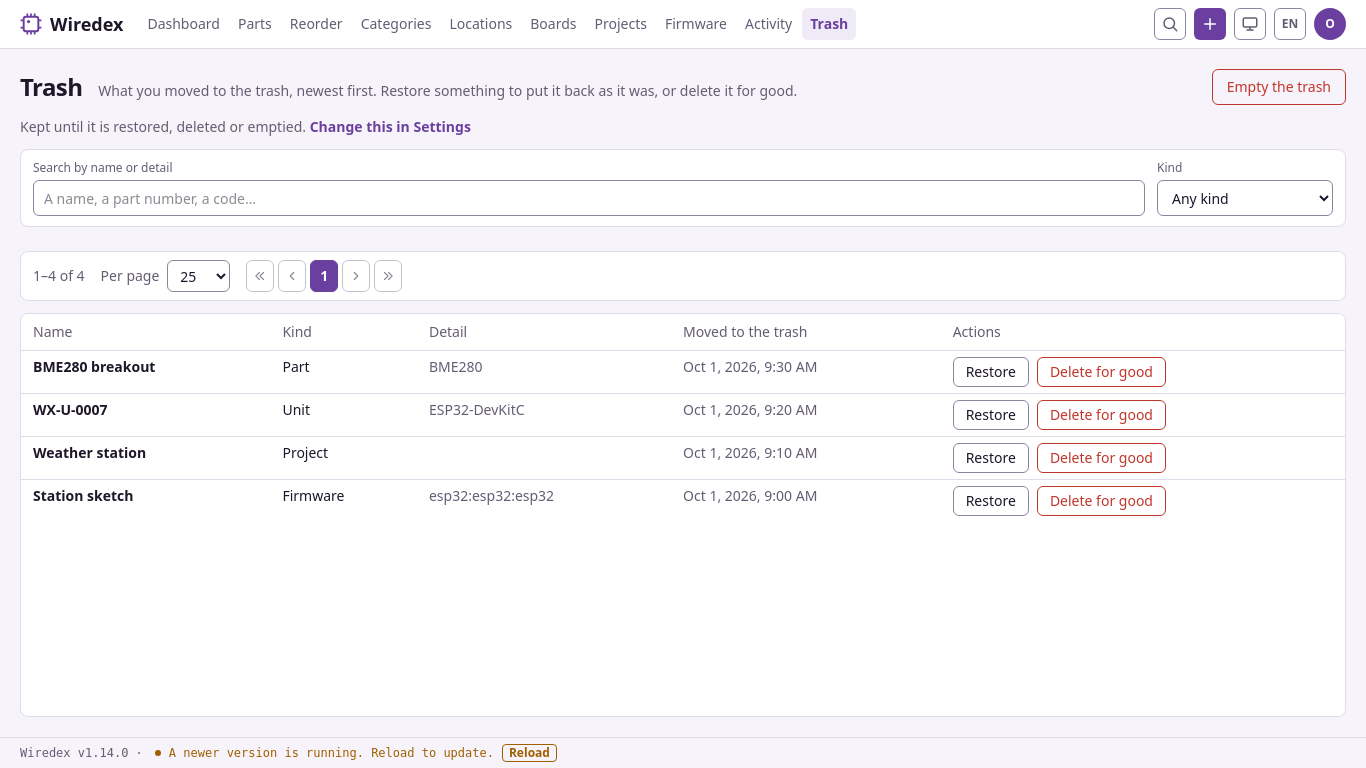
it: TrashPage › narrows by a name or detail once typing pauses, and clears back to everything
Type "esp32" into the search field labelled "Search by name or detail" at {"x": 589, "y": 198}, box [33,180,1145,216]
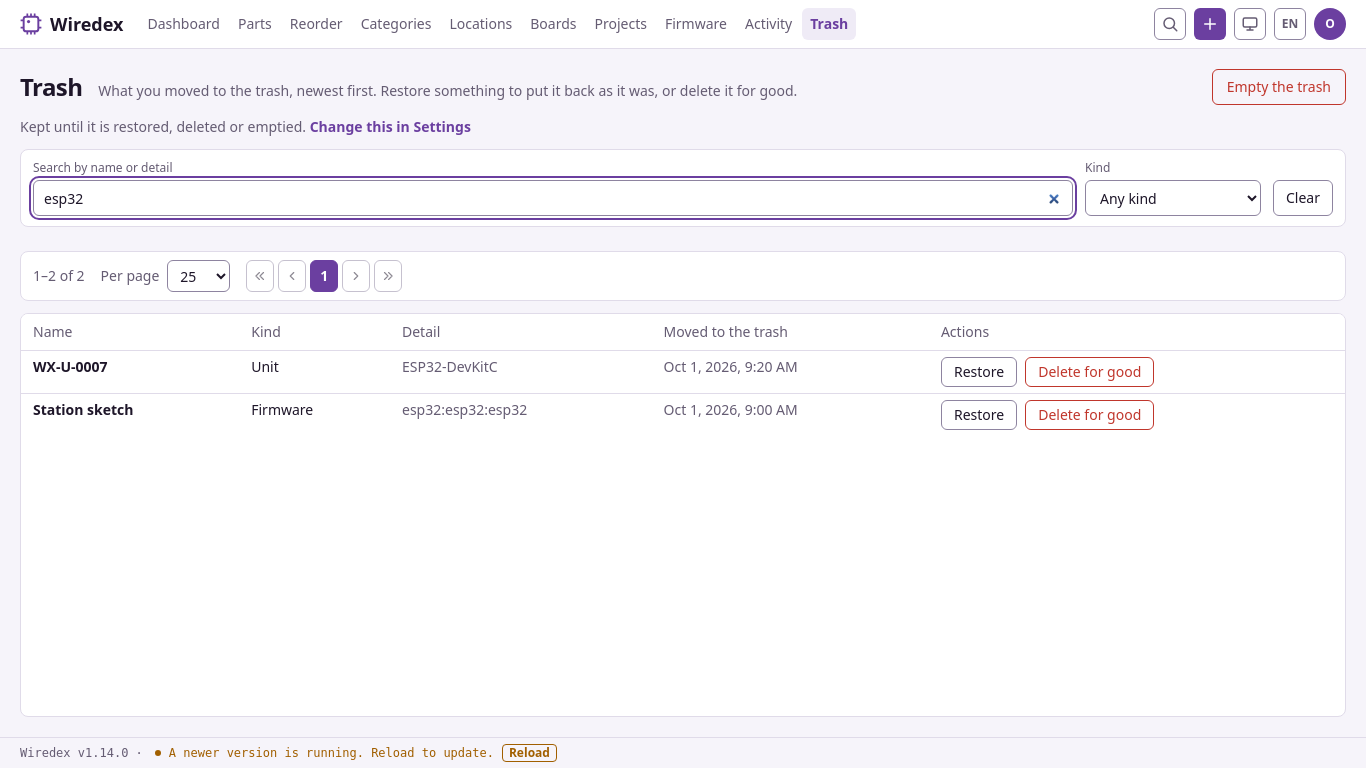
Click the button "Clear" at {"x": 1303, "y": 198}, box [1273,180,1333,216]
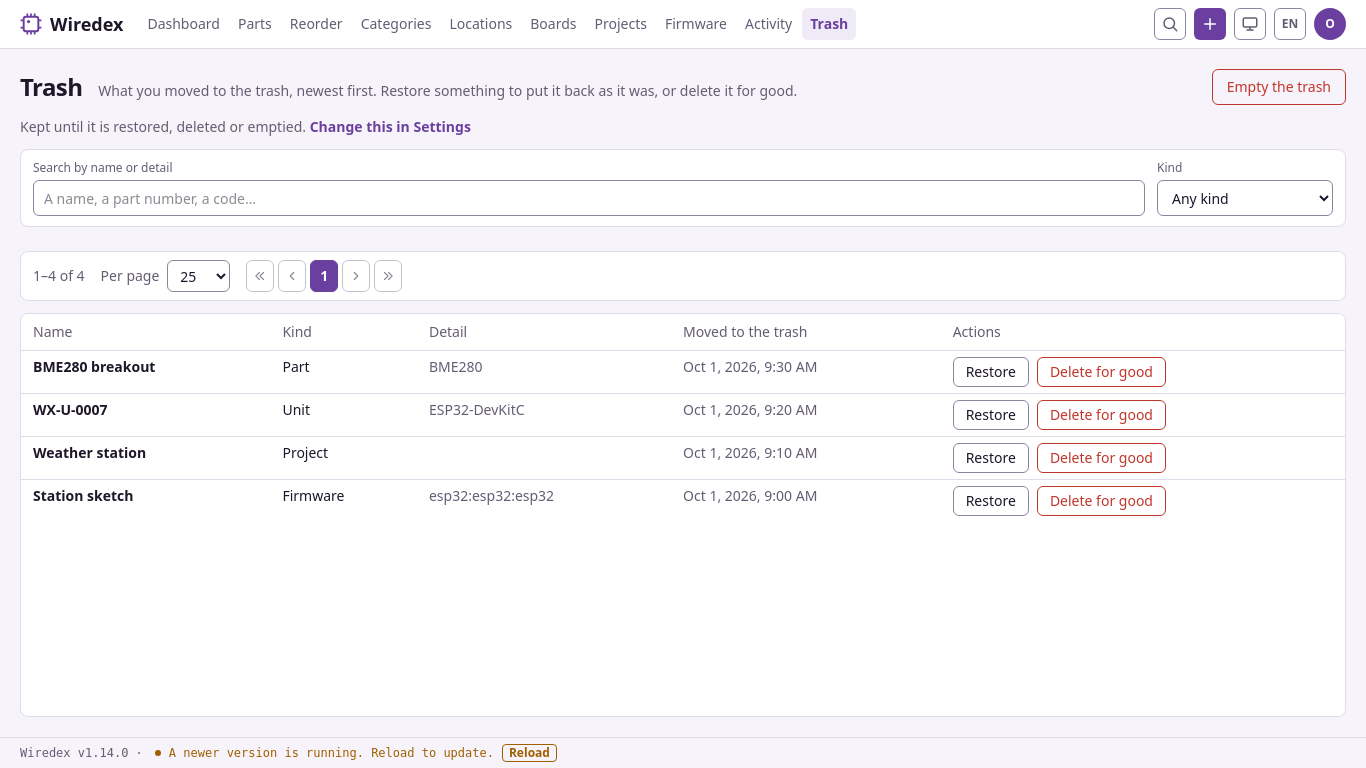
Expected: the search field labelled "Search by name or detail" is empty, [33,180,1145,216]
